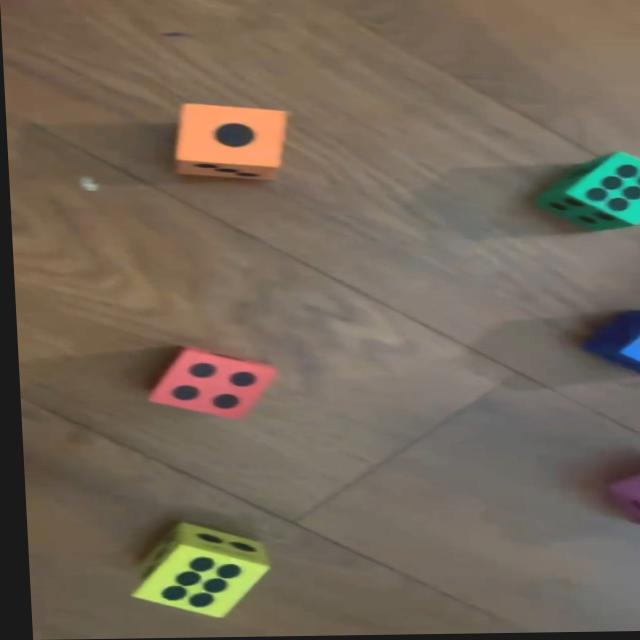cube: (144, 345, 279, 419), (530, 149, 640, 235), (575, 315, 640, 380)
